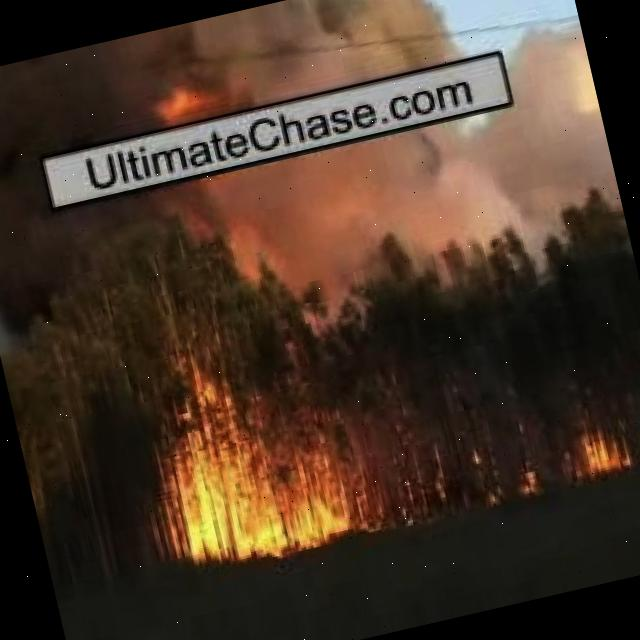fire: (134, 336, 366, 576), (372, 398, 504, 532), (567, 429, 631, 478), (150, 86, 213, 126), (518, 472, 550, 498)
